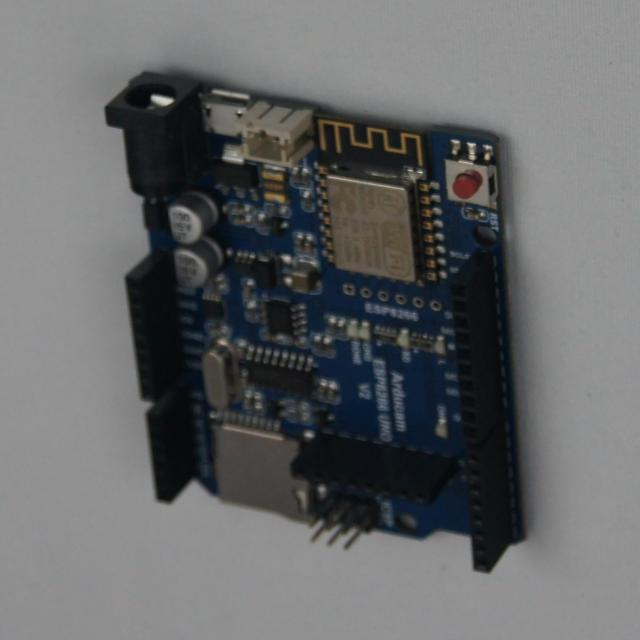Arduino Uno Camera Shield: (106, 73, 524, 572)
